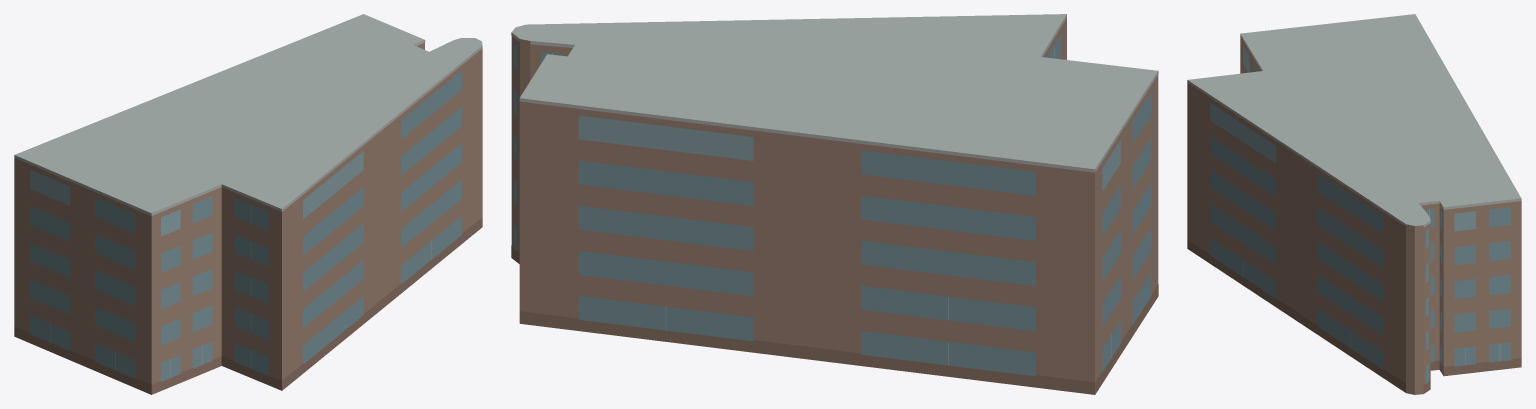
The model's file is survey-upis-32988027.glb.
3 views of the same model, side by side, from view 1: azimuth 30°, elevation 25°; view 2: azimuth 150°, elevation 25°; view 3: azimuth 270°, elevation 25° (orthographic). The views are drawn at different scales.
Parts seen in each view (by area): view 1: survey-upis-32988027.tmp; view 2: survey-upis-32988027.tmp; view 3: survey-upis-32988027.tmp.
Boxes of the visible parts, x1,y1,x2,y2 form: survey-upis-32988027.tmp: (14,14,482,394); survey-upis-32988027.tmp: (511,14,1158,394); survey-upis-32988027.tmp: (1187,14,1521,394).
Bounding box in the file's own units: 42.72 × 15.87 × 28.45.
